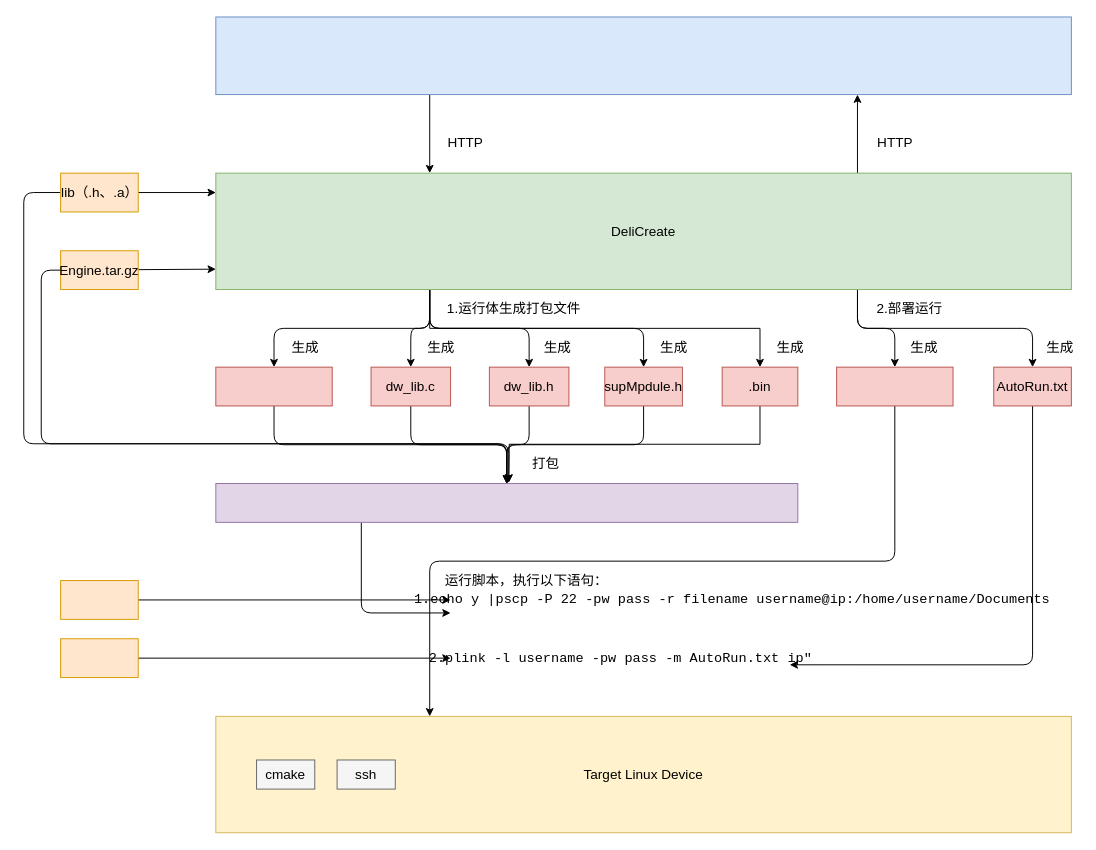
Some shapes in this 1096 by 850 pixel diagram are drawn without their labels. The shapes that lost their labels are listed below. From the top down, each one's centre as x and y in pixels, then its label:
the point at 643,55: DeliServer
the point at 273,386: CMakeLists.txt
the point at 894,386: AutoDeploy.bat
the point at 506,502: Engine.tar.gz（new）
the point at 99,599: pscp.exe
the point at 99,658: plink.exe
